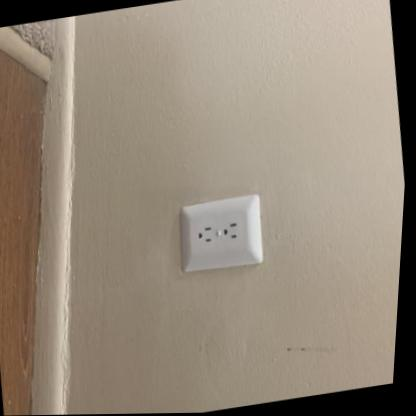OUTLET: (169, 190, 269, 277)
